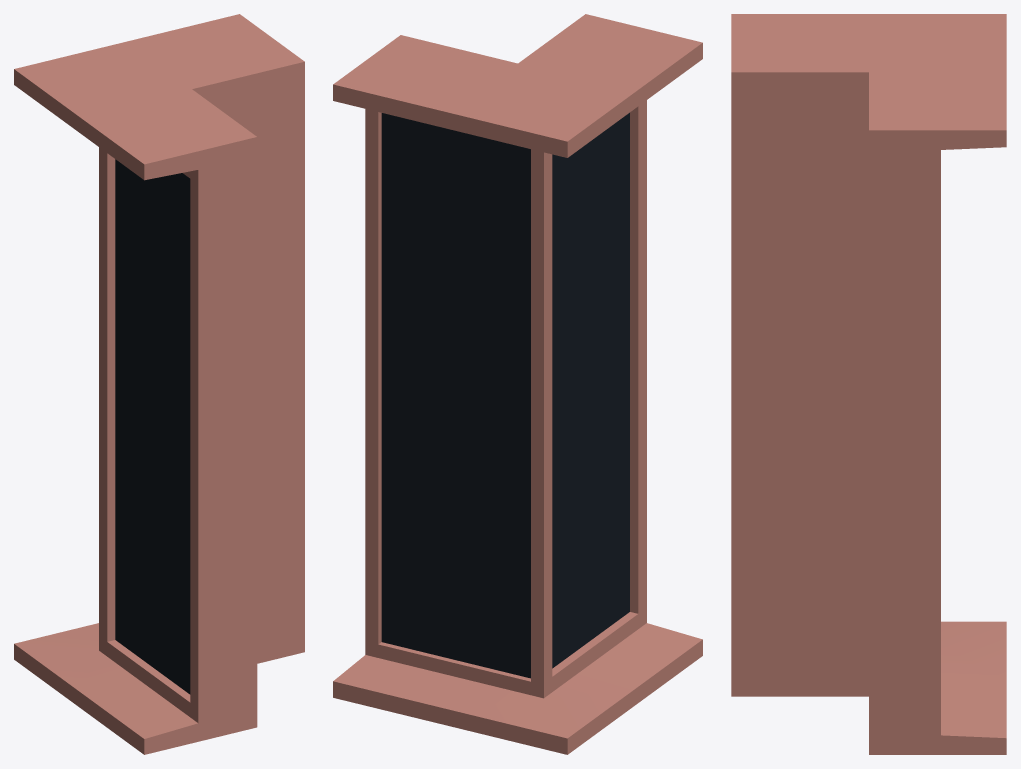
The model's file is BasicWallGlassCornerOuter_2x5.fbx.
3 views of the same model, side by side, from view 1: azimuth 30°, elevation 25°; view 2: azimuth 150°, elevation 25°; view 3: azimuth 270°, elevation 25° (orthographic). The views are drawn at different scales.
Visible parts, largest first — view 1: BasicWallGlass1x5CornerOuter.018; view 2: BasicWallGlass1x5CornerOuter.018; view 3: BasicWallGlass1x5CornerOuter.018.
Part boxes in pixels (x1,y1,x2,y2): BasicWallGlass1x5CornerOuter.018: [14, 14, 304, 754]; BasicWallGlass1x5CornerOuter.018: [333, 14, 702, 754]; BasicWallGlass1x5CornerOuter.018: [731, 14, 1006, 754].
Bounding box in the file's own units: 200 × 500 × 200.
